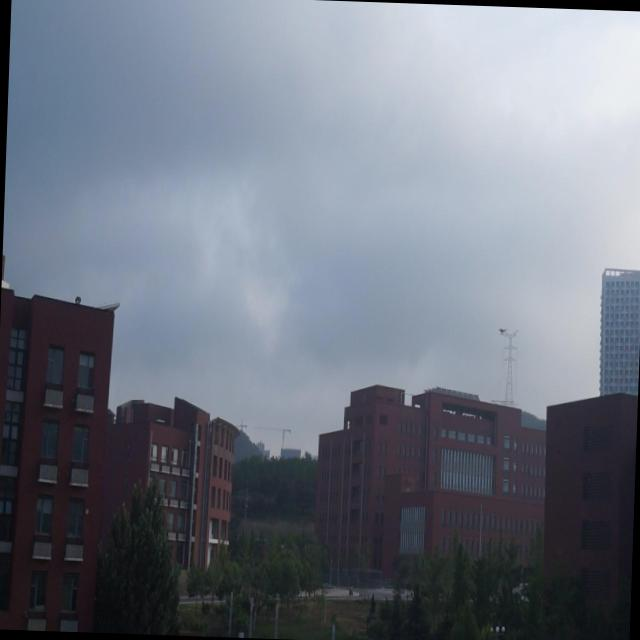drone: (494, 322, 508, 339)
